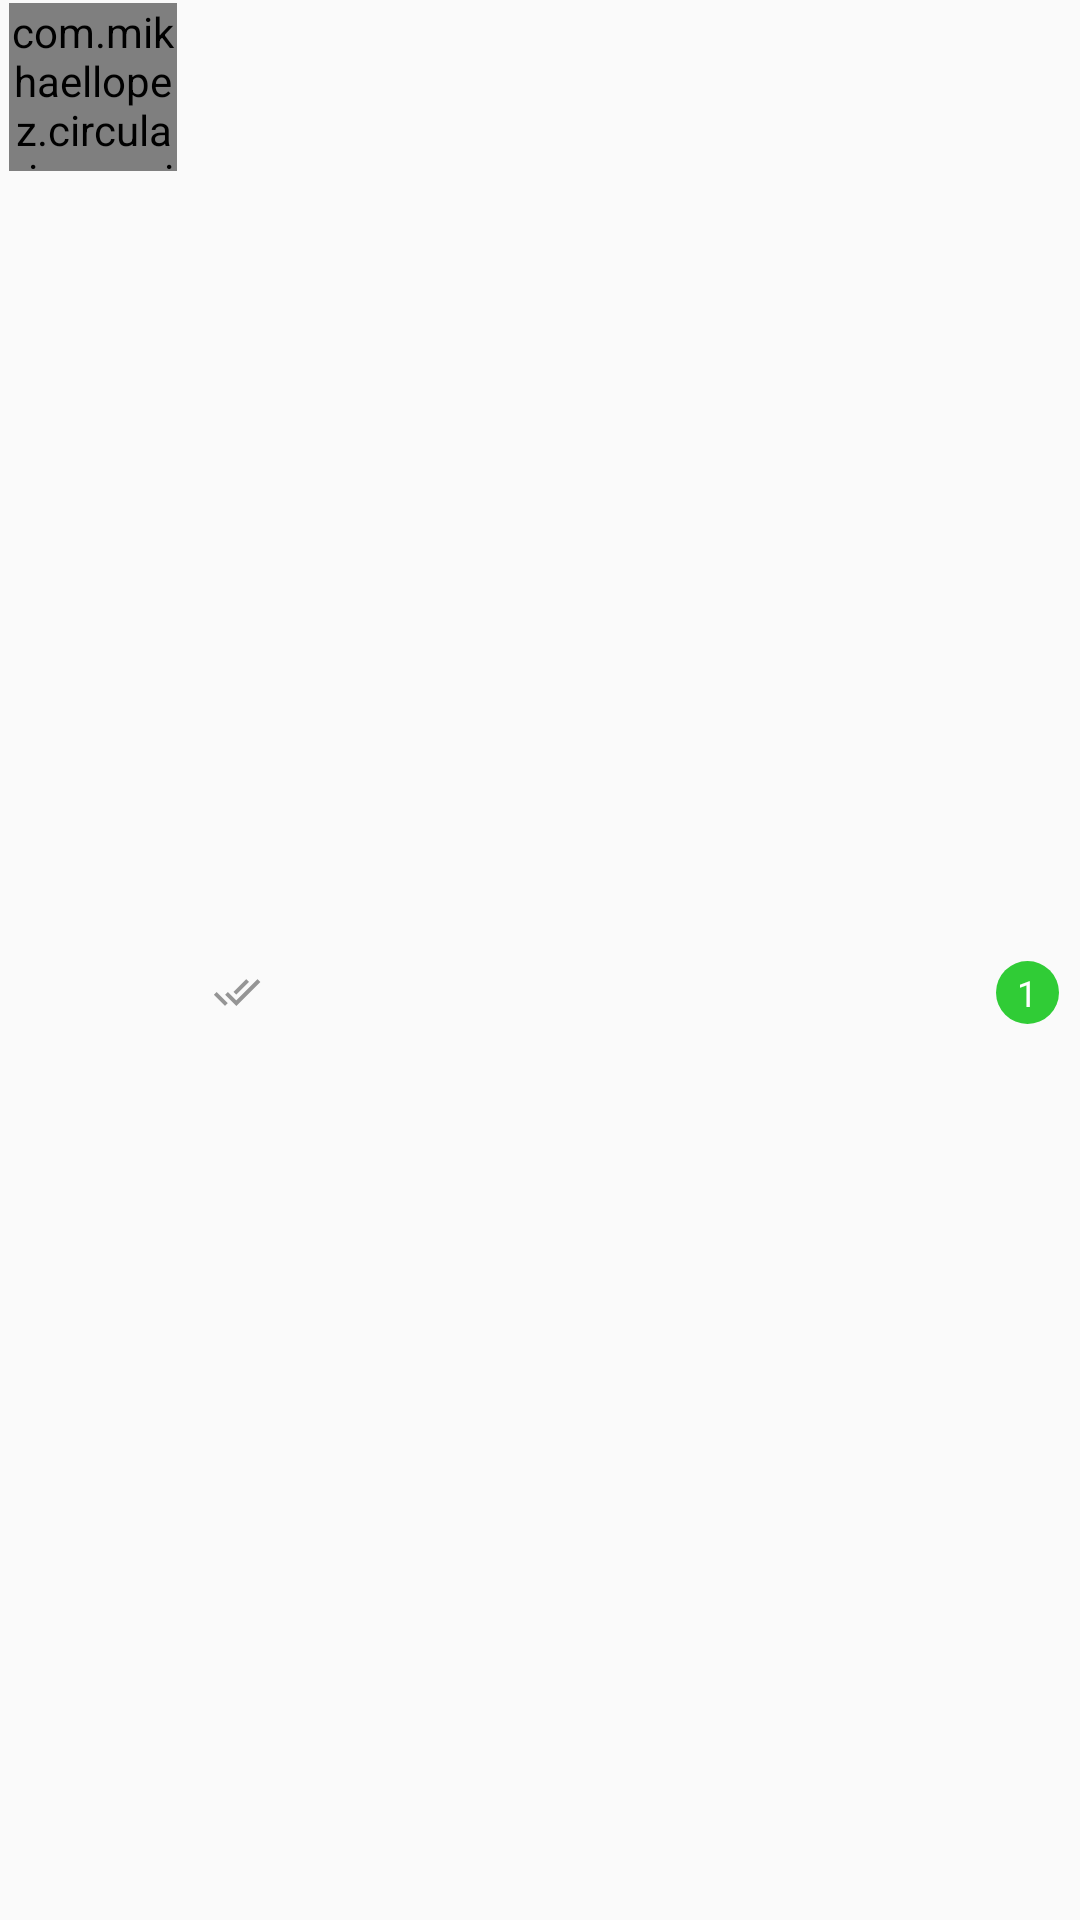

Icons on this 1080w x 1920h Android screen, each with its box as region(x1, y1, x2, y2):
check: region(214, 979, 260, 1006)
